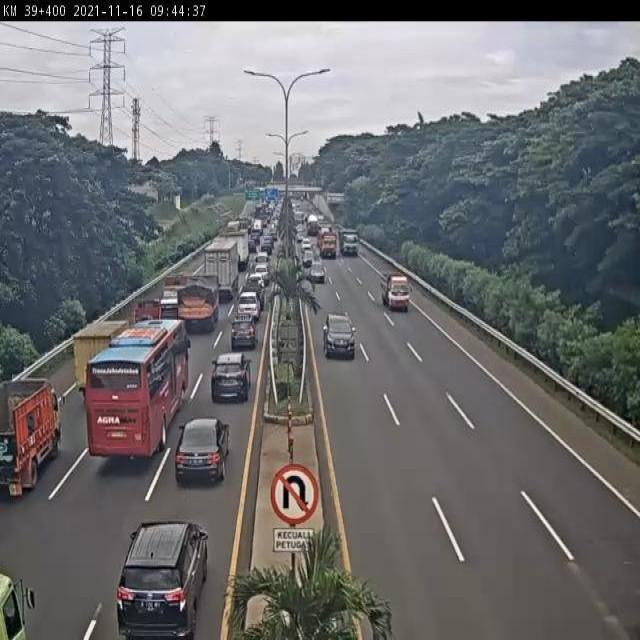big bus: (85, 321, 191, 460)
car: (114, 518, 208, 640), (174, 418, 229, 486), (210, 353, 251, 404), (320, 312, 360, 363), (229, 320, 256, 355), (237, 291, 259, 321), (242, 284, 265, 307), (247, 270, 266, 290), (309, 259, 326, 281)
small truck: (70, 323, 134, 393), (123, 298, 163, 342), (156, 272, 191, 321)
truck-l-: (201, 242, 241, 298)
truck-m-: (0, 371, 65, 497), (179, 276, 220, 329), (380, 271, 411, 312)
